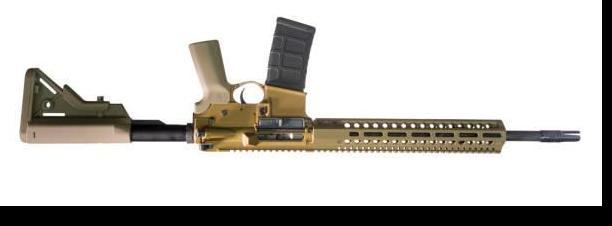larga: (19, 16, 580, 154)
